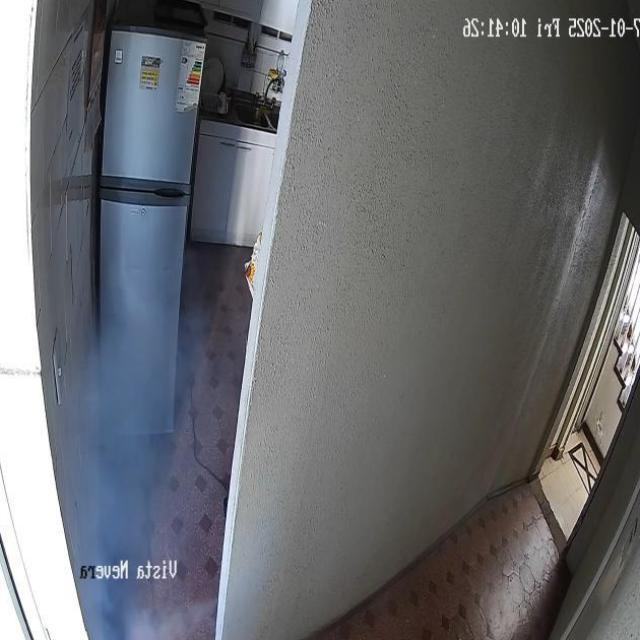fire: (54, 218, 224, 640)
